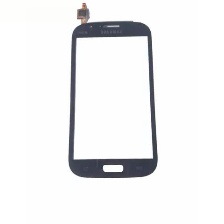phone: (66, 14, 160, 182)
